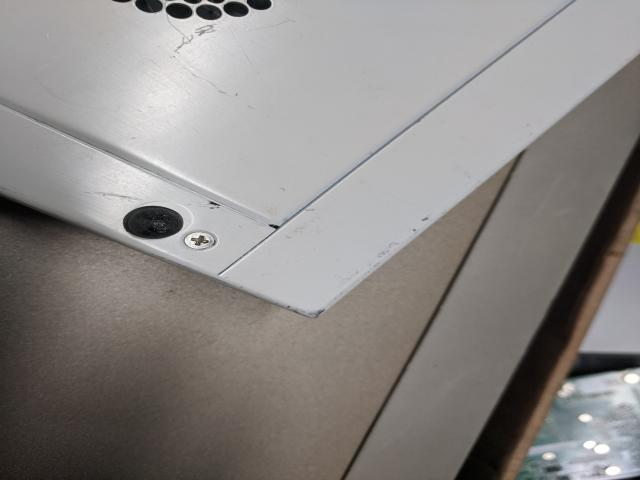CRS: (184, 231, 218, 250)
